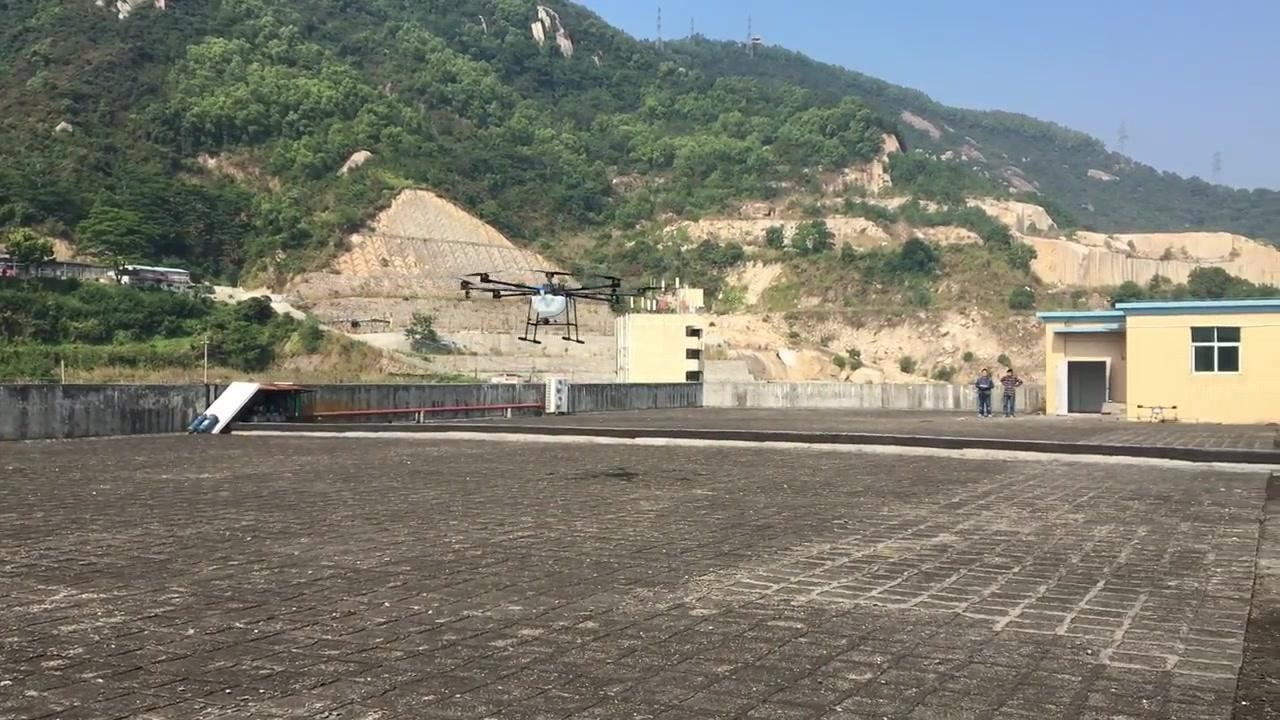UAV: (457, 270, 669, 346)
